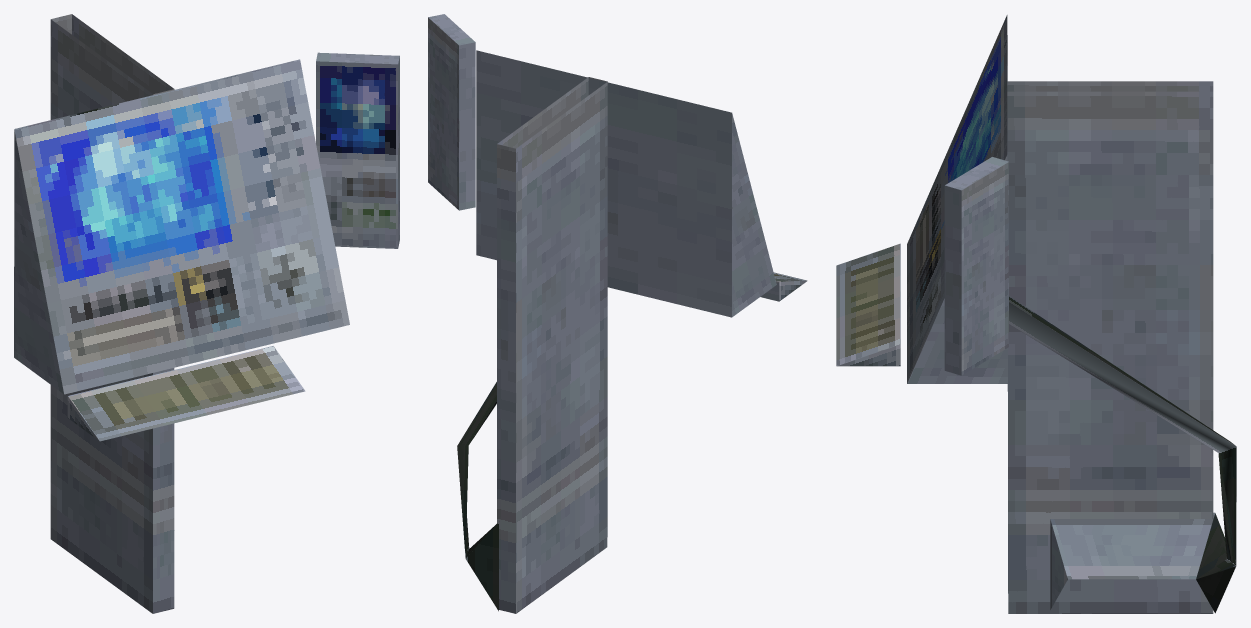
The model's file is frn_all_data_terminal_free_s1_l2.fbx.
3 renders of one model, left to right at view 1: azimuth 30°, elevation 25°; view 2: azimuth 150°, elevation 25°; view 3: azimuth 270°, elevation 25°, orthographic. The views are drawn at different scales.
Visible parts, largest first — view 1: mesh_node; view 2: mesh_node; view 3: mesh_node.
Part boxes in pixels (x1,y1,x2,y2): mesh_node: (14, 14, 399, 613); mesh_node: (428, 14, 807, 613); mesh_node: (836, 15, 1236, 613).
Bounding box in the file's own units: 1.09 × 1.49 × 1.03.
